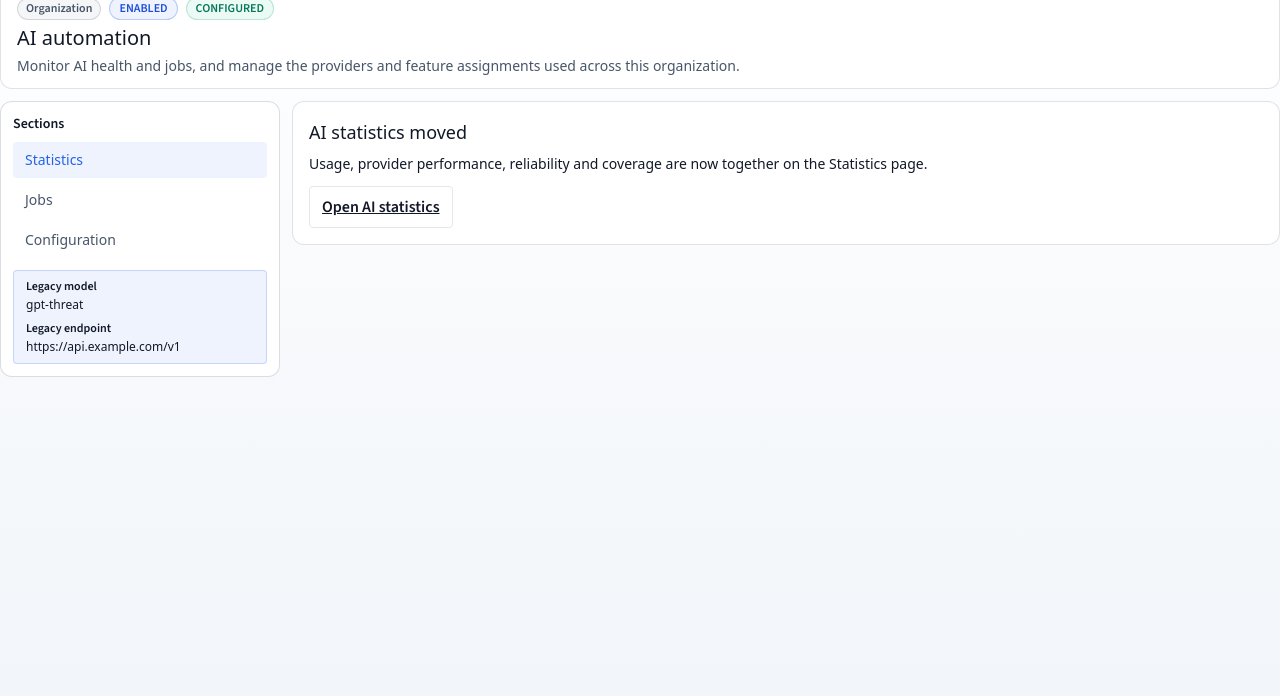
Test: AiSettingsPage DOM workflows › explains independent report and default completion budgets with accessible help
The width and height of the screenshot is (1280, 696).
Step 1. Click the tab "Configuration" → [140, 240], box [13,222,267,258]
(page scrolled)
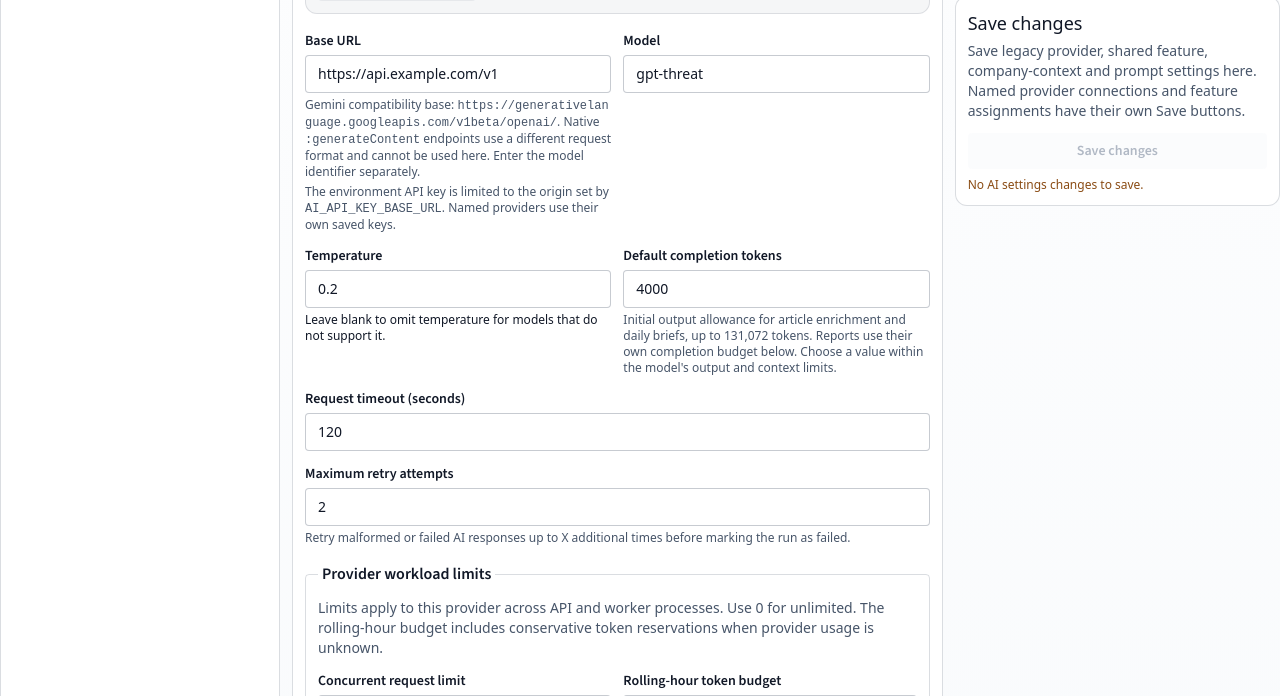
Check: the field named "Default completion tokens" holds "4000", box [623,270,930,308]
Check: the text with id "legacy-completion-token-help" shows "article enrichment and daily briefs", box [623,311,923,376]
